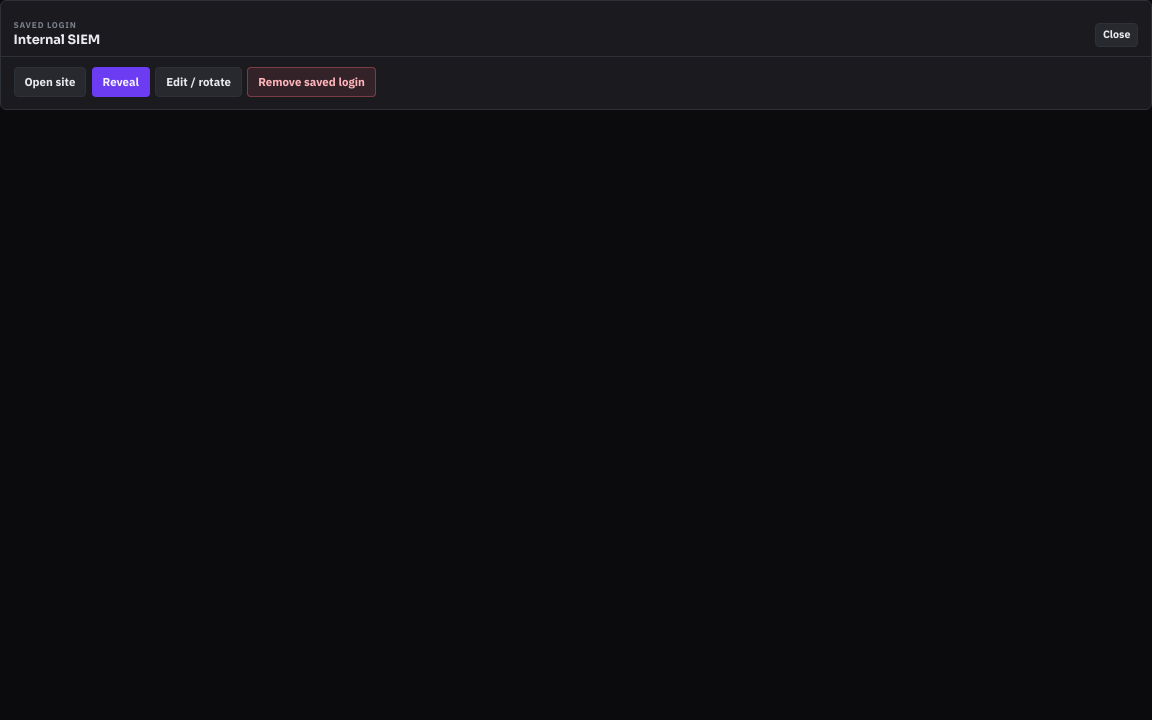
Scenario: CredentialPanel › surfaces a rate-limit error distinctly from other failures
Click the button "Reveal" at [121, 82], box [92, 67, 150, 97]
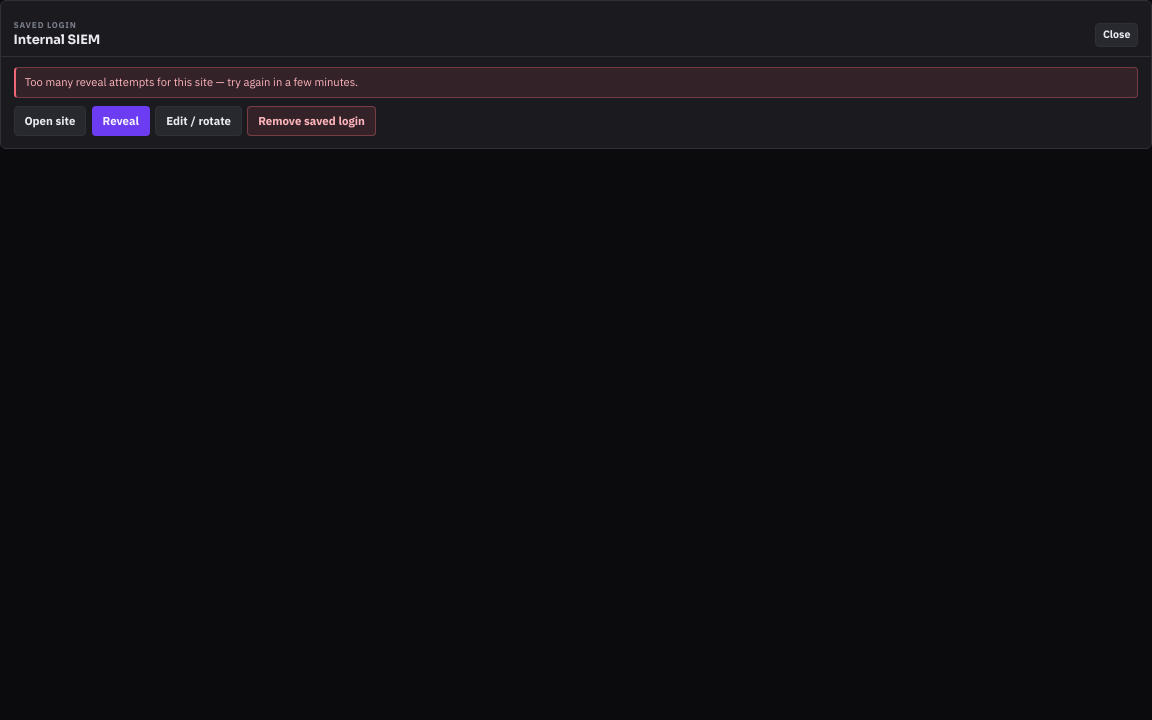
Expected: the text "Too many reveal attempts for this site — try again in a few minutes." is shown, [14, 67, 1138, 98]
